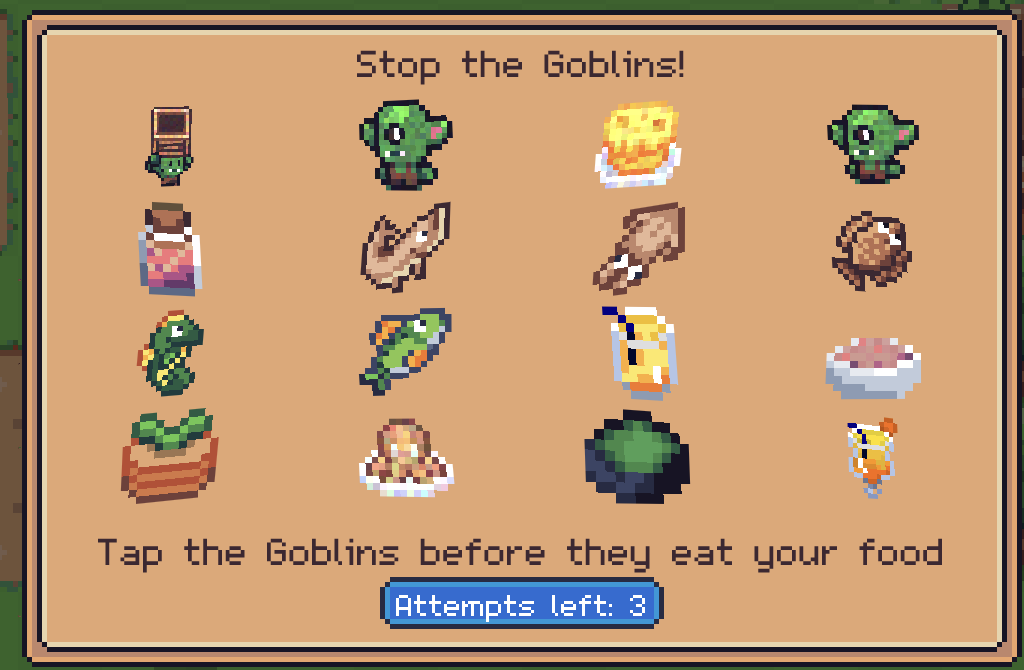capcha_goblin: (355, 98, 452, 192), (827, 102, 922, 187), (142, 105, 197, 189)
